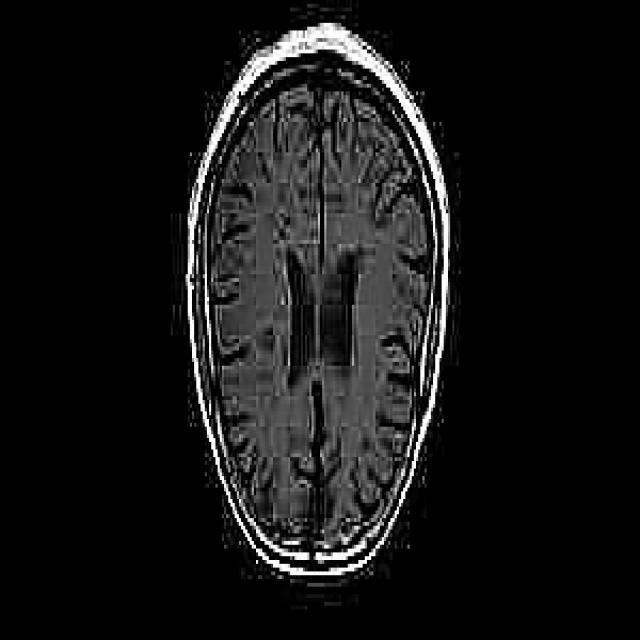notumor: (186, 23, 450, 587)
